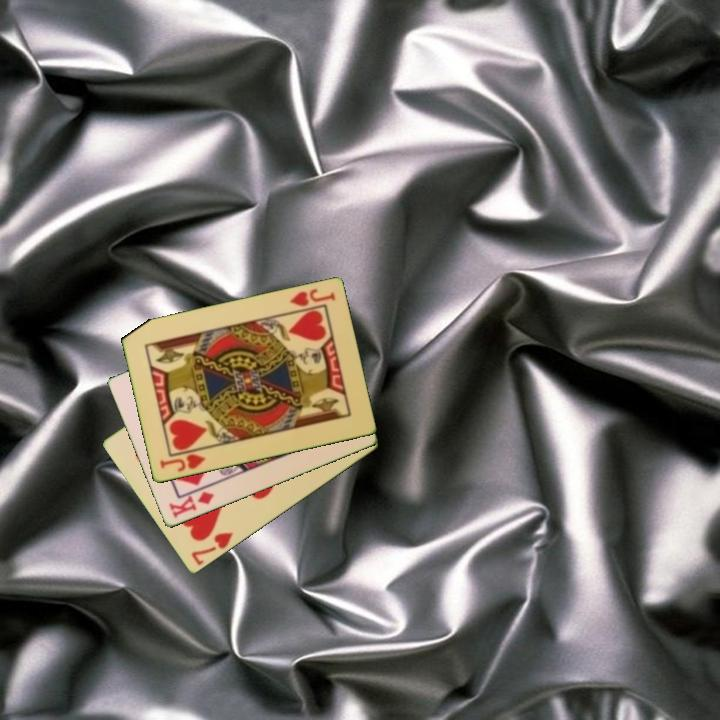7h: (188, 529, 236, 569)
Jh: (156, 445, 210, 475), (286, 286, 338, 310)
Kd: (165, 488, 217, 521)
